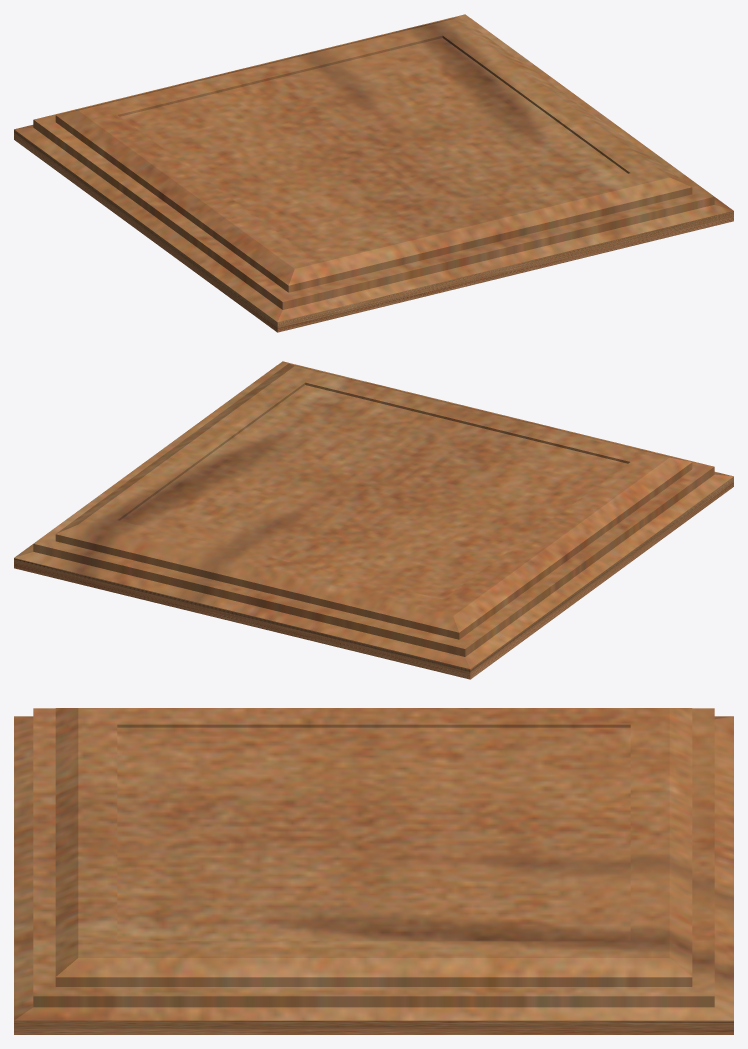
3 renders of one model, top to bottom at view 1: azimuth 30°, elevation 25°; view 2: azimuth 150°, elevation 25°; view 3: azimuth 270°, elevation 25°, orthographic. The views are drawn at different scales.
Parts seen in each view (by area): view 1: Chess base; view 2: Chess base; view 3: Chess base.
Boxes of the visible parts, <box> form: Chess base: <box>14,14,733,332</box>; Chess base: <box>14,361,733,679</box>; Chess base: <box>14,708,733,1034</box>.
Bounding box in the file's own units: 0.6741 × 0.0515 × 0.6741.
1 material, 1 textured.
